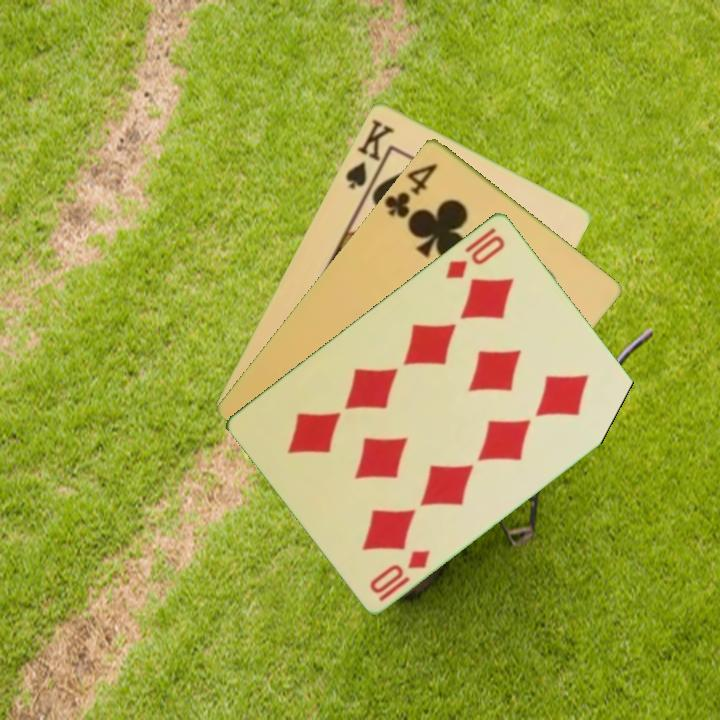10d: (365, 545, 434, 604), (442, 231, 508, 281)
4c: (381, 159, 441, 221)
Ks: (341, 114, 397, 198)
